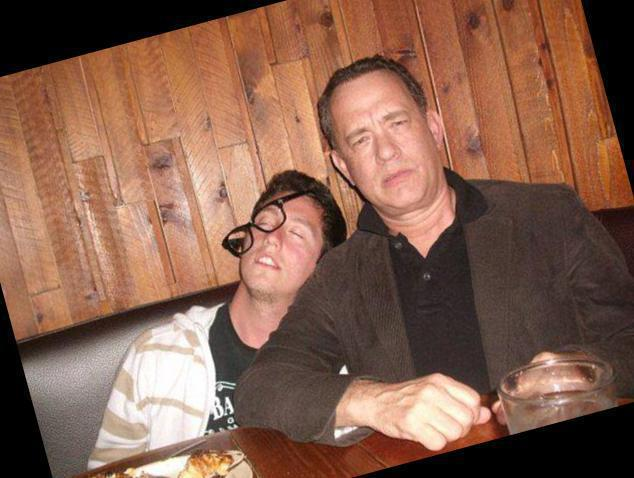Drunk: (331, 78, 436, 204), (248, 197, 317, 290)
